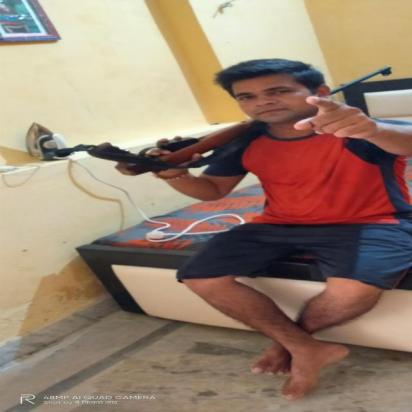Gun: (85, 65, 395, 177)
